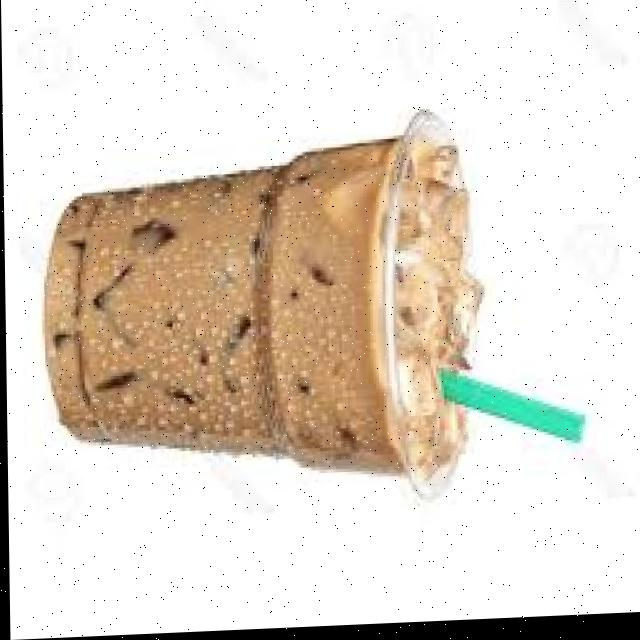cup: (45, 116, 481, 499)
